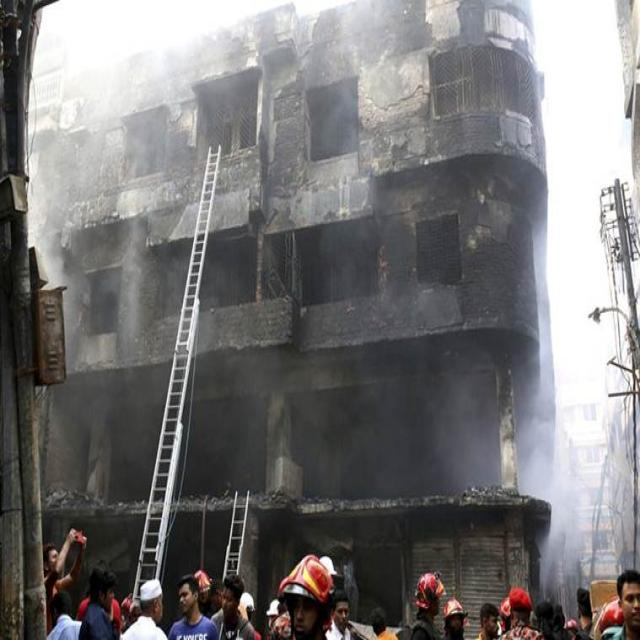smoke: (37, 125, 141, 299), (532, 274, 580, 573)
